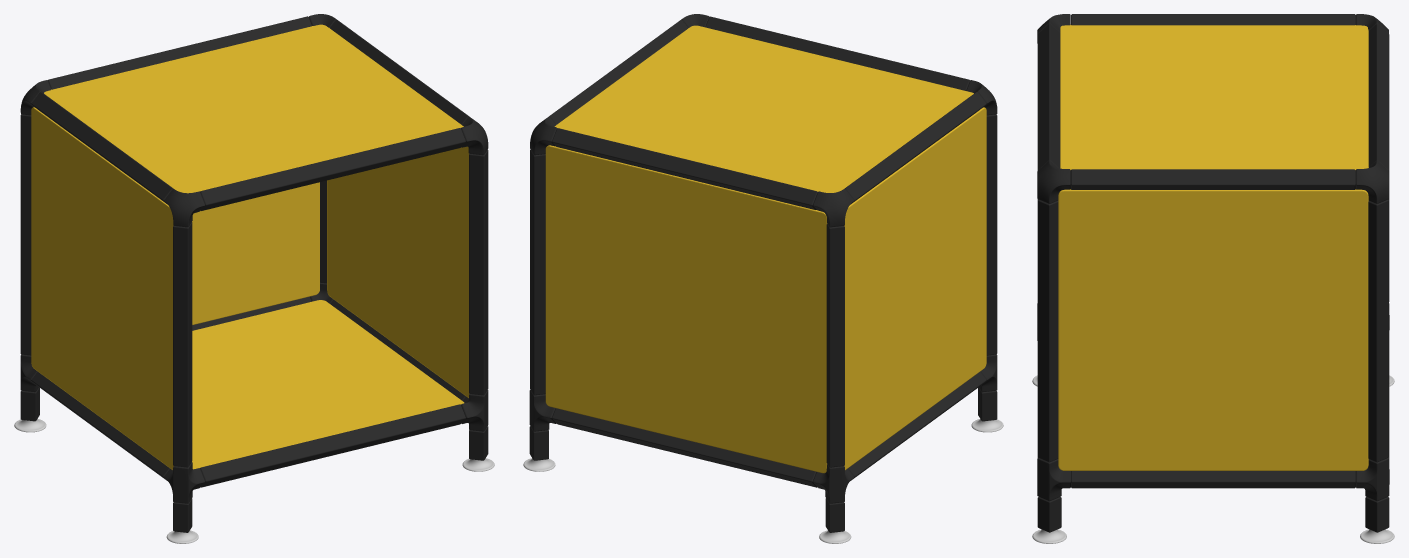
The picture shows the model from 3 angles, left to right: view 1: azimuth 30°, elevation 25°; view 2: azimuth 150°, elevation 25°; view 3: azimuth 270°, elevation 25°; orthographic projection. The views are drawn at different scales.
Visible parts, largest first — view 1: 374x329x329; view 2: 374x329x329; view 3: 374x329x329.
Part boxes in pixels (x1=…): 374x329x329: x1=14, y1=14, x2=494, y2=543; 374x329x329: x1=523, y1=14, x2=1003, y2=543; 374x329x329: x1=1032, y1=14, x2=1394, y2=543.
Size of the model in its own units: 0.4639 by 0.4683 by 0.4182.
